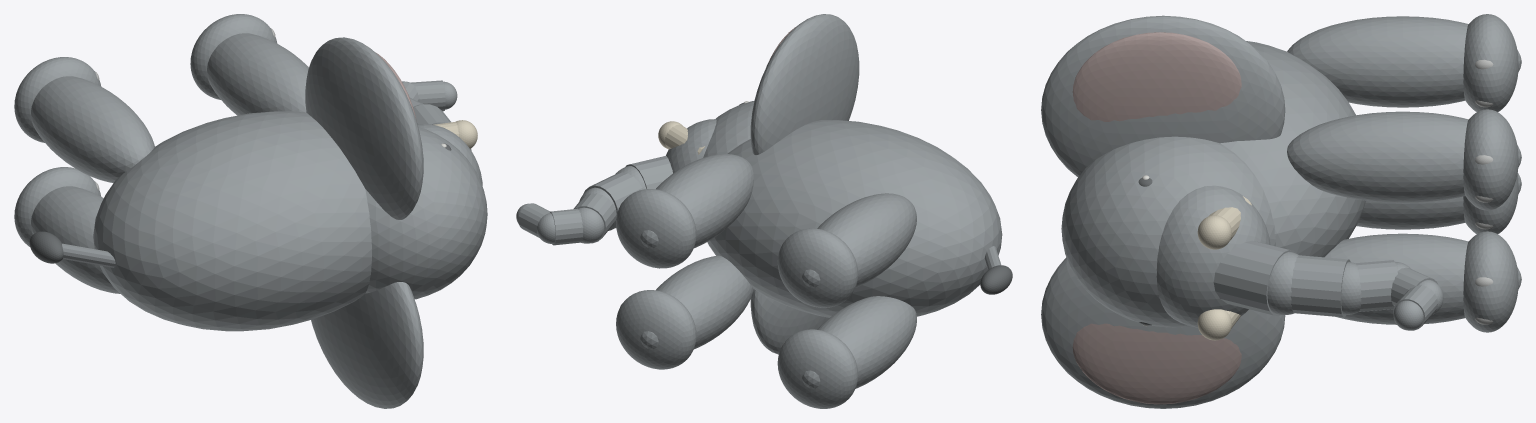
The model's file is elephant_3d_model.glb.
3 renders of one model, left to right at view 1: azimuth 30°, elevation 25°; view 2: azimuth 150°, elevation 25°; view 3: azimuth 270°, elevation 25°, orthographic. The views are drawn at different scales.
Visible parts, largest first — view 1: elephant_part_00, elephant_part_05, elephant_part_01, elephant_part_03, elephant_part_12, elephant_part_22, elephant_part_07, elephant_part_23, elephant_part_13, elephant_part_08, elephant_part_46, elephant_part_45 (+4 smaller); view 2: elephant_part_00, elephant_part_05, elephant_part_12, elephant_part_22, elephant_part_07, elephant_part_17, elephant_part_23, elephant_part_18, elephant_part_13, elephant_part_08, elephant_part_03, elephant_part_01 (+10 smaller); view 3: elephant_part_01, elephant_part_05, elephant_part_22, elephant_part_12, elephant_part_00, elephant_part_06, elephant_part_04, elephant_part_03, elephant_part_02, elephant_part_17, elephant_part_18, elephant_part_23 (+14 smaller).
Part boxes in pixels (left/top/right/bottom): elephant_part_00: left=93, top=111, right=371, bottom=331; elephant_part_05: left=305, top=37, right=423, bottom=219; elephant_part_01: left=365, top=127, right=487, bottom=299; elephant_part_03: left=311, top=282, right=423, bottom=408; elephant_part_12: left=31, top=76, right=154, bottom=182; elephant_part_22: left=207, top=33, right=308, bottom=115; elephant_part_07: left=31, top=186, right=120, bottom=293; elephant_part_23: left=190, top=14, right=277, bottom=99; elephant_part_13: left=14, top=57, right=101, bottom=142; elephant_part_08: left=14, top=167, right=101, bottom=246; elephant_part_46: left=29, top=231, right=63, bottom=263; elephant_part_45: left=62, top=243, right=115, bottom=267; elephant_part_00: left=707, top=120, right=1002, bottom=317; elephant_part_05: left=750, top=14, right=859, bottom=154; elephant_part_12: left=802, top=193, right=916, bottom=287; elephant_part_22: left=640, top=154, right=753, bottom=248; elephant_part_07: left=802, top=296, right=916, bottom=388; elephant_part_17: left=640, top=255, right=753, bottom=349; elephant_part_23: left=616, top=189, right=696, bottom=268; elephant_part_18: left=616, top=290, right=696, bottom=369; elephant_part_13: left=777, top=228, right=858, bottom=307; elephant_part_08: left=777, top=329, right=858, bottom=408; elephant_part_03: left=750, top=289, right=829, bottom=354; elephant_part_01: left=703, top=100, right=754, bottom=157; elephant_part_01: left=1061, top=136, right=1275, bottom=327; elephant_part_05: left=1041, top=15, right=1285, bottom=177; elephant_part_22: left=1287, top=111, right=1521, bottom=202; elephant_part_12: left=1287, top=16, right=1521, bottom=107; elephant_part_00: left=1220, top=41, right=1365, bottom=257; elephant_part_06: left=1072, top=32, right=1241, bottom=121; elephant_part_04: left=1072, top=323, right=1241, bottom=404; elephant_part_03: left=1041, top=257, right=1285, bottom=408; elephant_part_02: left=1156, top=185, right=1270, bottom=327; elephant_part_17: left=1325, top=233, right=1521, bottom=324; elephant_part_18: left=1463, top=231, right=1518, bottom=332; elephant_part_23: left=1463, top=109, right=1518, bottom=210.
Bounding box in the file's own units: 3.9 × 2.76 × 3.07.
